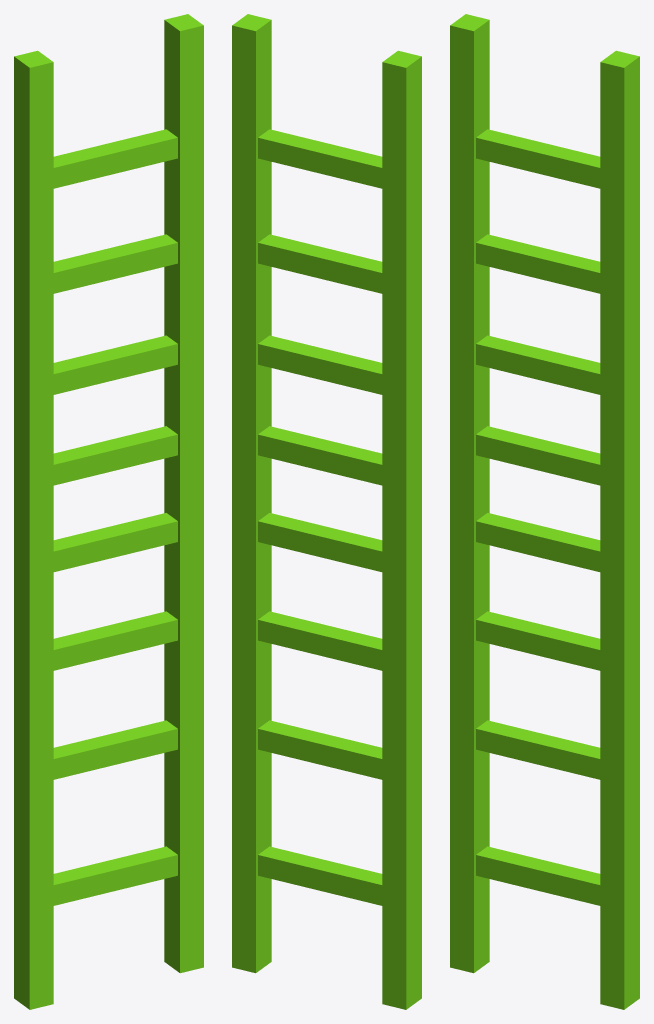
Rendered from ladder.glb.
The picture shows the model from 3 angles, left to right: view 1: azimuth 30°, elevation 25°; view 2: azimuth 150°, elevation 25°; view 3: azimuth 330°, elevation 25°; orthographic projection.
Visible parts, largest first — view 1: Cube; view 2: Cube; view 3: Cube.
Part boxes in pixels (x1=…): Cube: x1=14, y1=14, x2=203, y2=1009; Cube: x1=232, y1=14, x2=421, y2=1009; Cube: x1=450, y1=14, x2=639, y2=1009.
Bounding box in the file's own units: 0.9383 × 4.85 × 0.1466.
